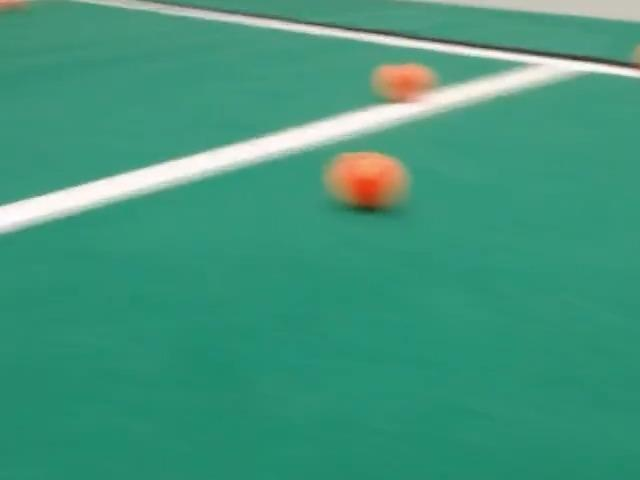Ball: (325, 152, 408, 209), (371, 64, 436, 101), (634, 46, 639, 66)
